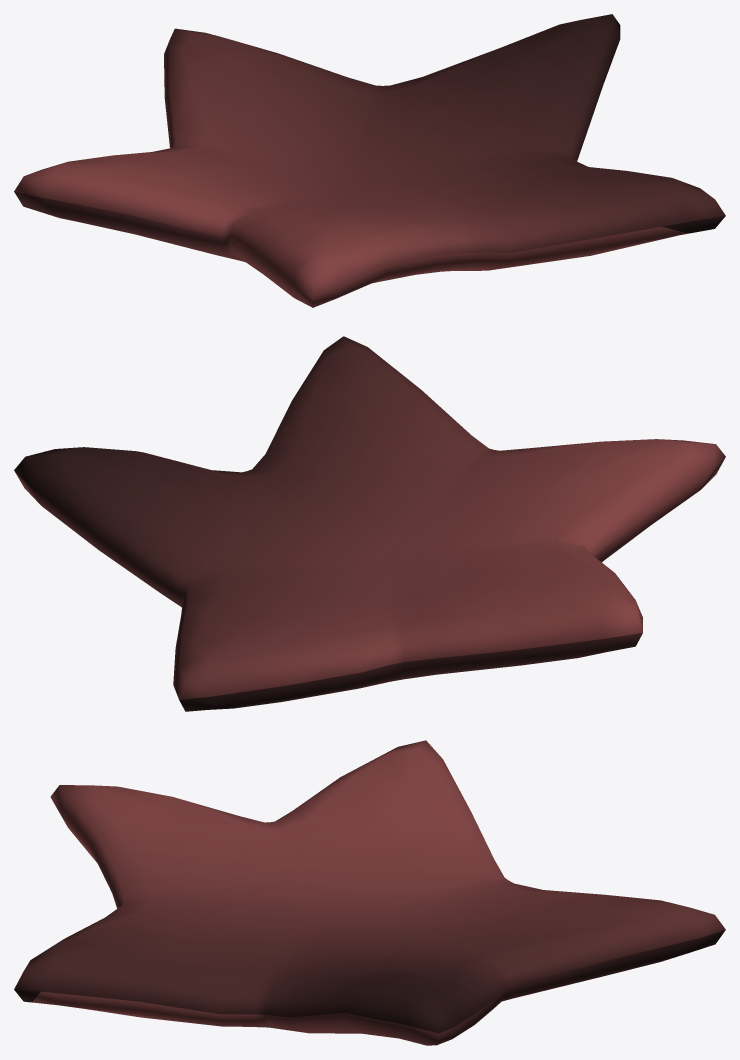
The model's file is star.glb.
The picture shows the model from 3 angles, top to bottom: view 1: azimuth 30°, elevation 25°; view 2: azimuth 150°, elevation 25°; view 3: azimuth 270°, elevation 25°; orthographic projection. The views are drawn at different scales.
Parts seen in each view (by area): view 1: cs_star4; view 2: cs_star4; view 3: cs_star4.
Boxes of the visible parts, box(x1,y1,x2,y2) form: cs_star4: box(14, 14, 725, 307); cs_star4: box(14, 336, 725, 711); cs_star4: box(14, 740, 725, 1045).
Size of the model in its own units: 0.1359 by 0.0264 by 0.1378.
Materials: 1 (1 with a texture image).
